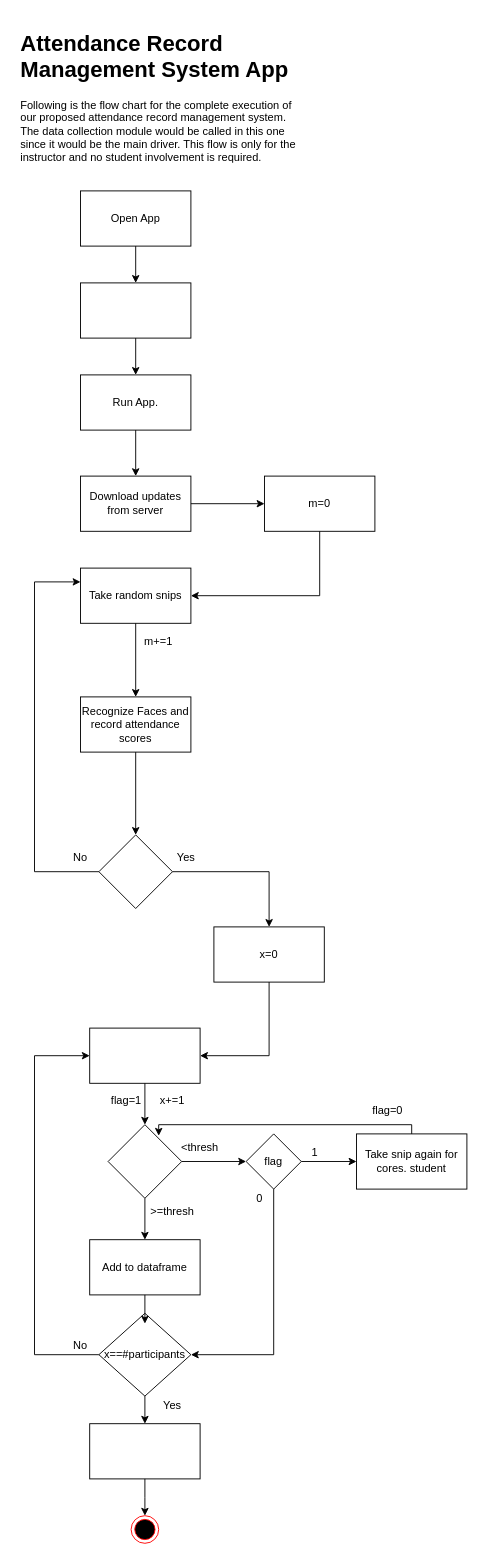
Some shapes in this 483 by 1559 pixel diagram are drawn without their labels. Each missing label, with the box of its shape:
Calculate weighted average: (89, 1027, 200, 1083)
Convert to csv and send: (89, 1423, 200, 1479)
Enter Config.: (80, 282, 191, 338)
m == #snips: (98, 834, 172, 908)
Score: (107, 1124, 182, 1198)
